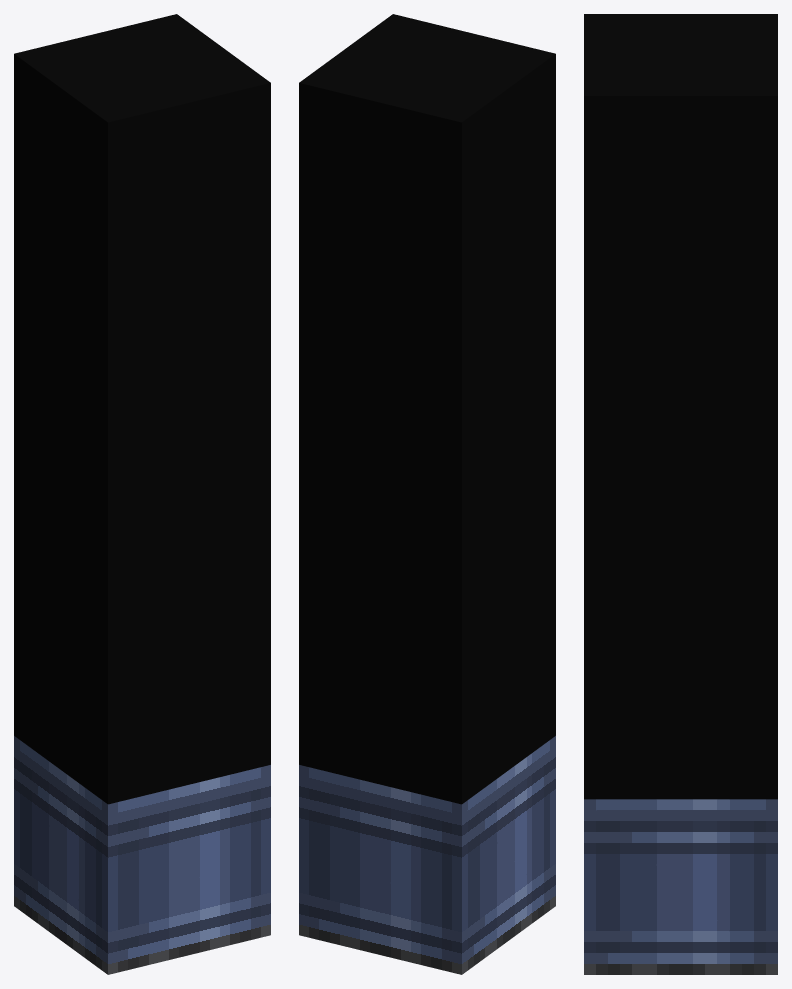
Rendered from WallPanel2.gltf.
3 renders of one model, left to right at view 1: azimuth 30°, elevation 25°; view 2: azimuth 150°, elevation 25°; view 3: azimuth 270°, elevation 25°, orthographic. The views are drawn at different scales.
Parts seen in each view (by area): view 1: Cube.002; view 2: Cube.002; view 3: Cube.002.
Part boxes in pixels (x1,y1,x2,y2): Cube.002: (14,14,270,974); Cube.002: (299,14,555,974); Cube.002: (584,14,777,974).
Bounding box in the file's own units: 2 × 10 × 2.
Materials: 2 (1 with a texture image).
